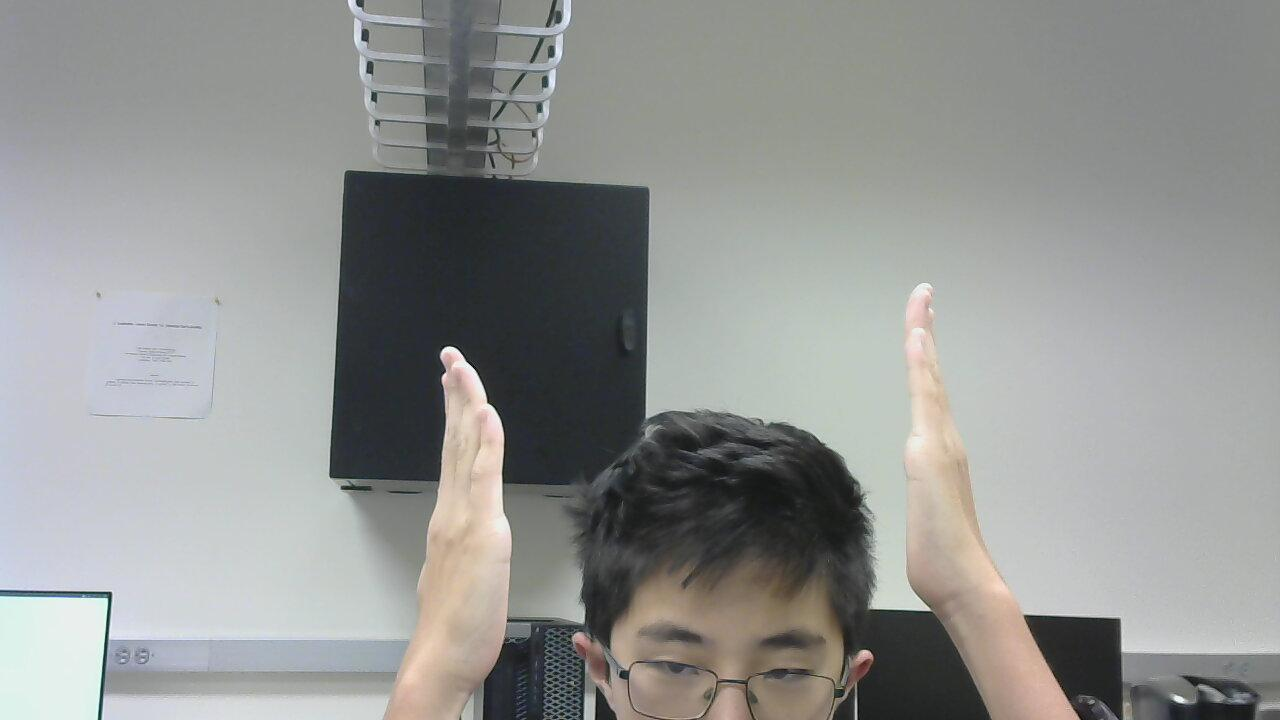hands: (404, 344, 529, 684), (891, 282, 1016, 612)
